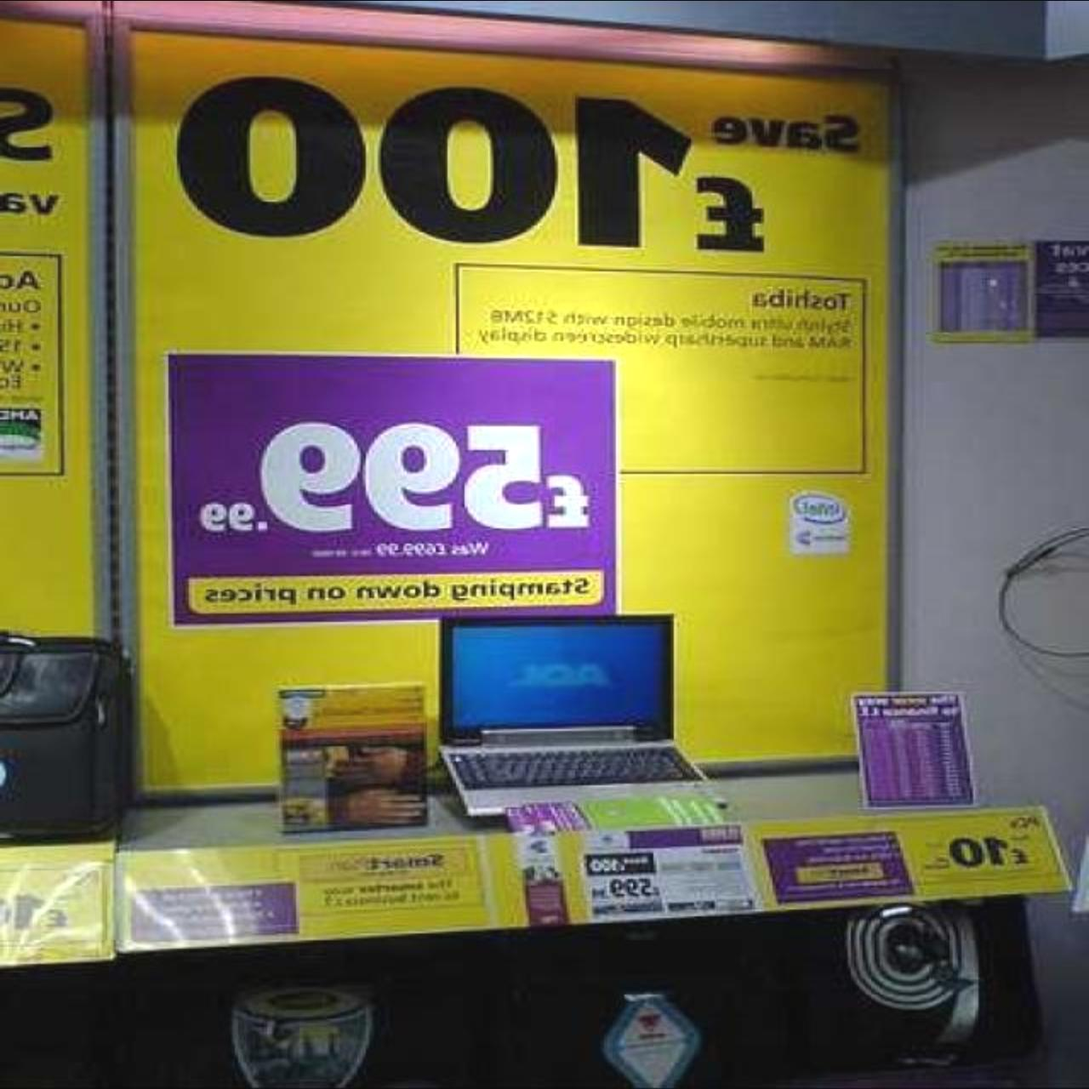laptop: (442, 616, 687, 793)
